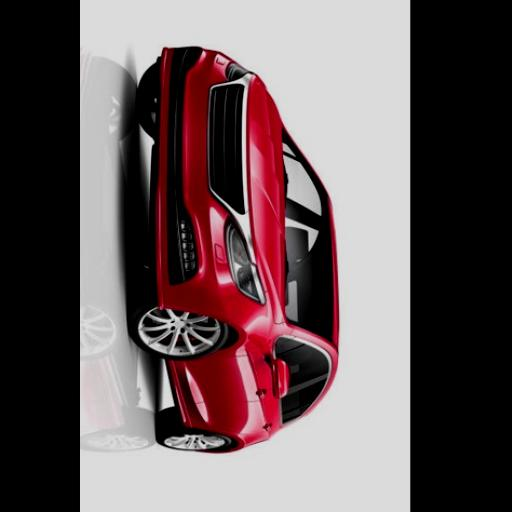hatchback: (130, 48, 338, 452)
